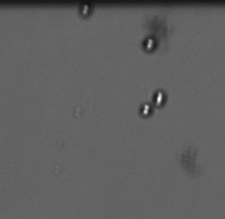Dead Cell: (76, 3, 94, 19)
Living Cell: (150, 88, 167, 107), (140, 35, 158, 51), (137, 101, 153, 119)
